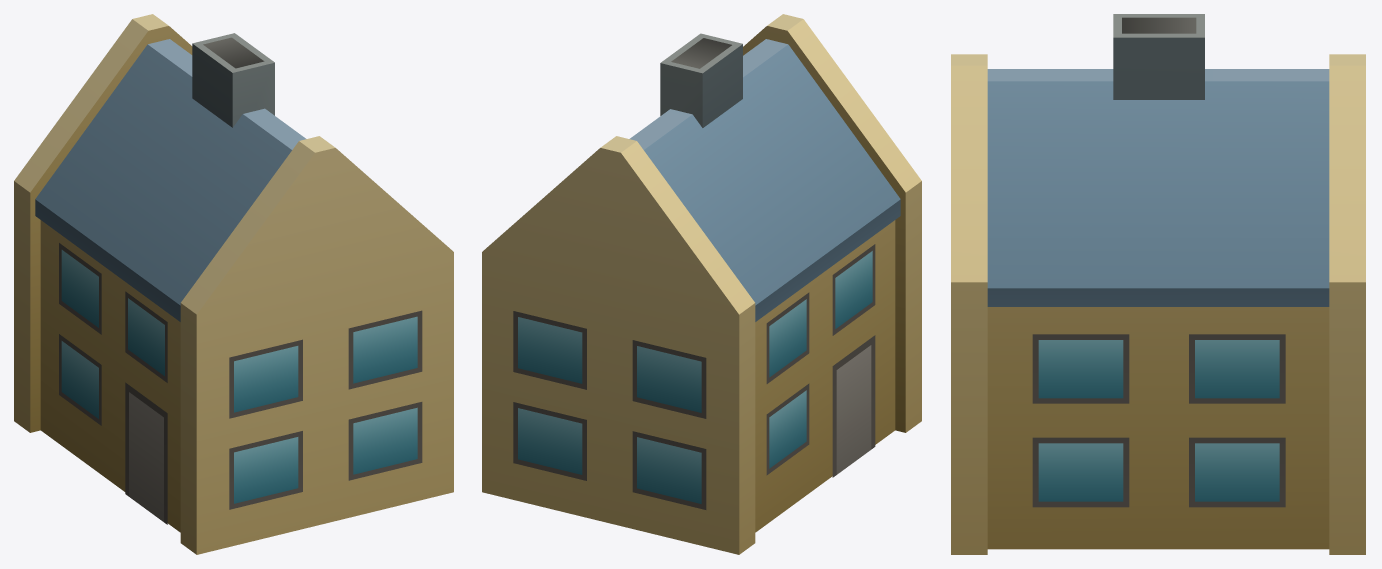
Rendered from House_L_C.fbx.
3 views of the same model, side by side, from view 1: azimuth 30°, elevation 25°; view 2: azimuth 150°, elevation 25°; view 3: azimuth 270°, elevation 25° (orthographic). The views are drawn at different scales.
Parts seen in each view (by area): view 1: House_L_C; view 2: House_L_C; view 3: House_L_C.
Boxes of the visible parts, <box> form: House_L_C: <box>14,14,453,554</box>; House_L_C: <box>482,14,921,554</box>; House_L_C: <box>951,14,1365,554</box>.
Bounding box in the file's own units: 825 × 1237 × 1023.
